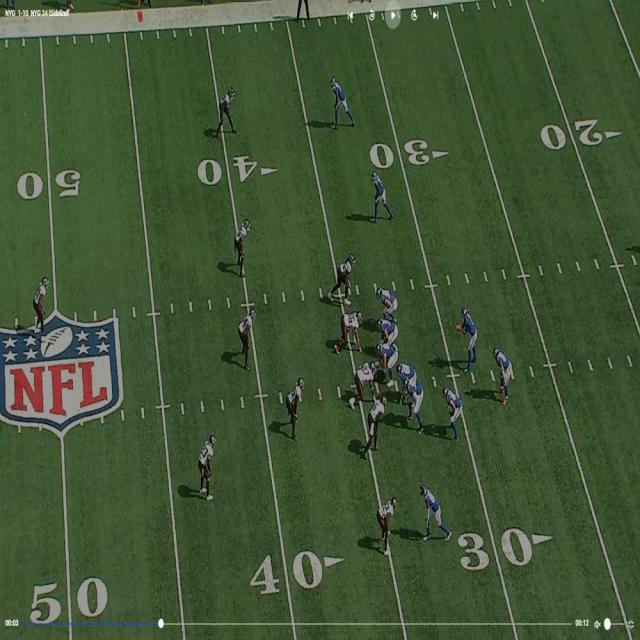center: (375, 344, 394, 382)
db: (202, 432, 216, 497), (380, 494, 396, 544), (33, 282, 48, 327), (220, 86, 234, 132)
lb: (233, 216, 250, 270), (368, 401, 382, 455), (288, 380, 300, 440), (243, 310, 255, 358)
qb: (462, 306, 478, 367)
skill: (423, 482, 444, 534), (496, 346, 514, 402), (332, 81, 352, 128), (374, 170, 393, 216), (446, 386, 462, 436)
